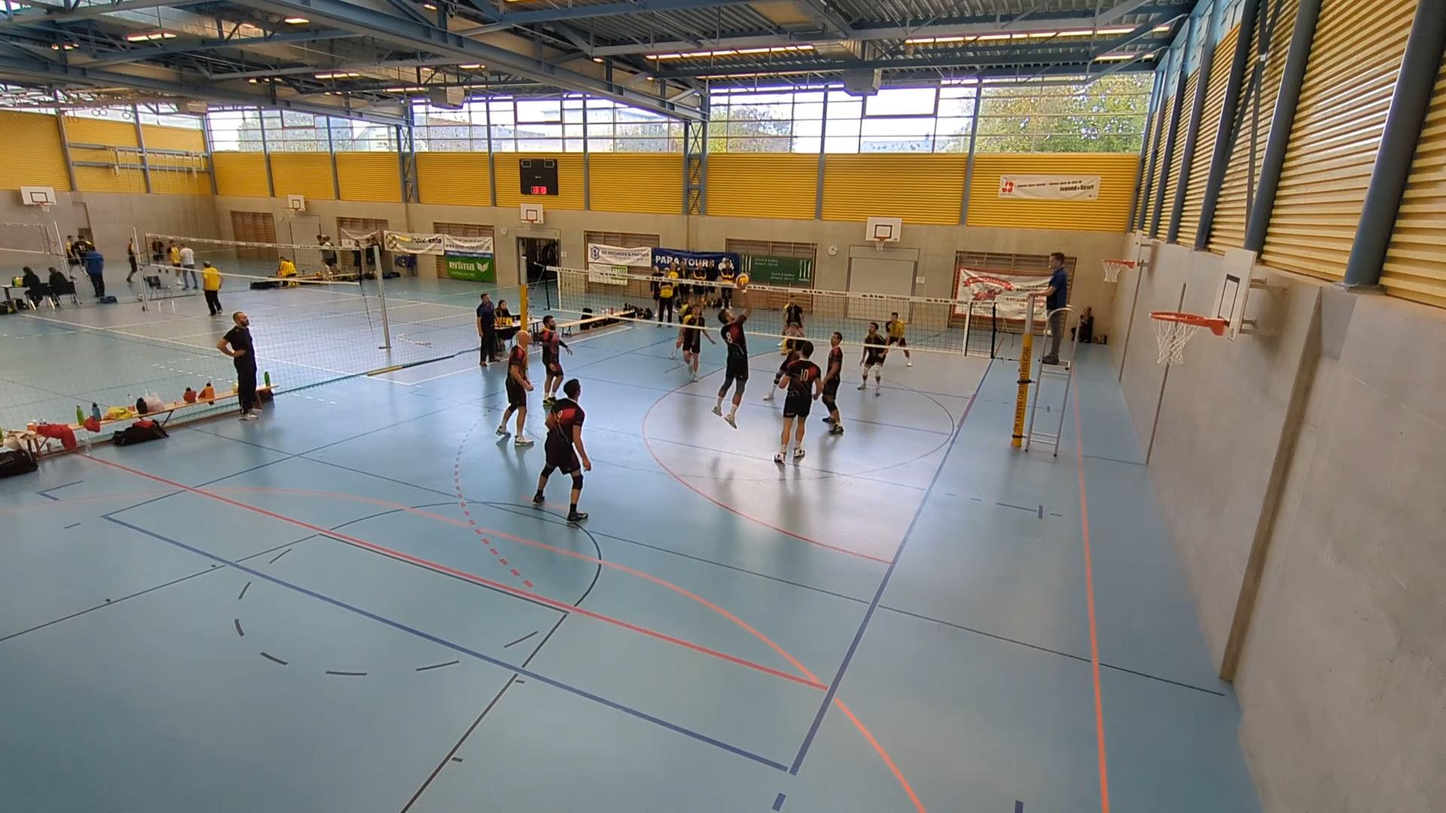Attack: (707, 295, 756, 426)
Player: (532, 379, 590, 523), (774, 340, 822, 463), (496, 331, 532, 446), (537, 315, 572, 406), (679, 303, 715, 382), (821, 332, 844, 434), (858, 322, 886, 395), (762, 349, 798, 401), (779, 294, 804, 355), (885, 312, 911, 366), (668, 327, 685, 359)
ball: (734, 271, 749, 288)
